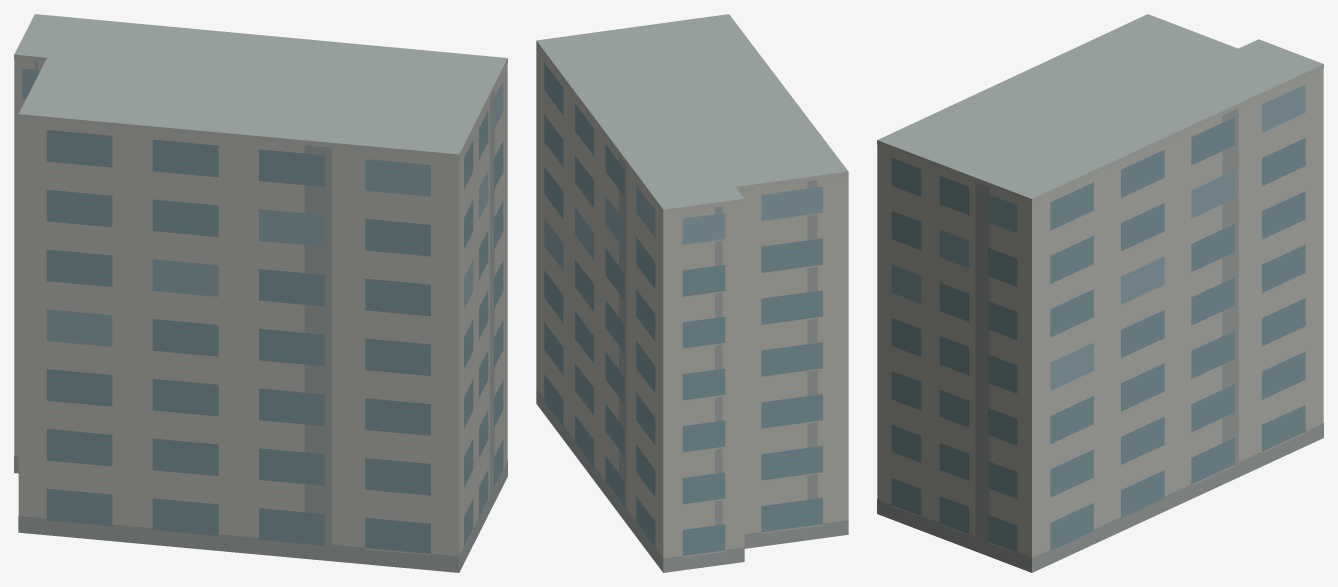
The model's file is survey-upis-32968974.glb.
3 renders of one model, left to right at view 1: azimuth 30°, elevation 25°; view 2: azimuth 150°, elevation 25°; view 3: azimuth 270°, elevation 25°, orthographic. The views are drawn at different scales.
Parts seen in each view (by area): view 1: survey-upis-32968974.tmp; view 2: survey-upis-32968974.tmp; view 3: survey-upis-32968974.tmp.
Part boxes in pixels (x1,y1,x2,y2): survey-upis-32968974.tmp: (14, 14, 507, 572); survey-upis-32968974.tmp: (536, 14, 848, 572); survey-upis-32968974.tmp: (877, 14, 1323, 572).
Bounding box in the file's own units: 21.34 × 20.1 × 21.77.
